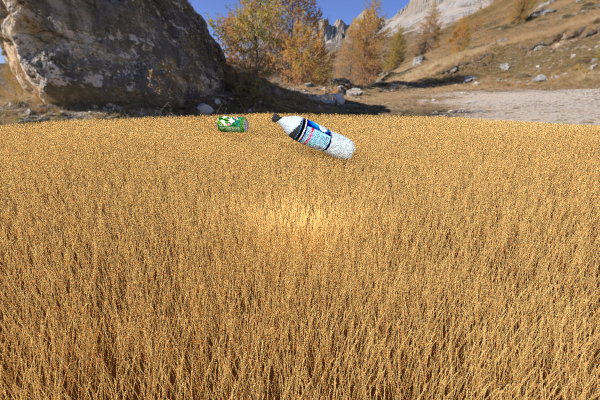bottle: (271, 113, 355, 160)
can: (216, 116, 248, 132), (205, 112, 233, 129)
